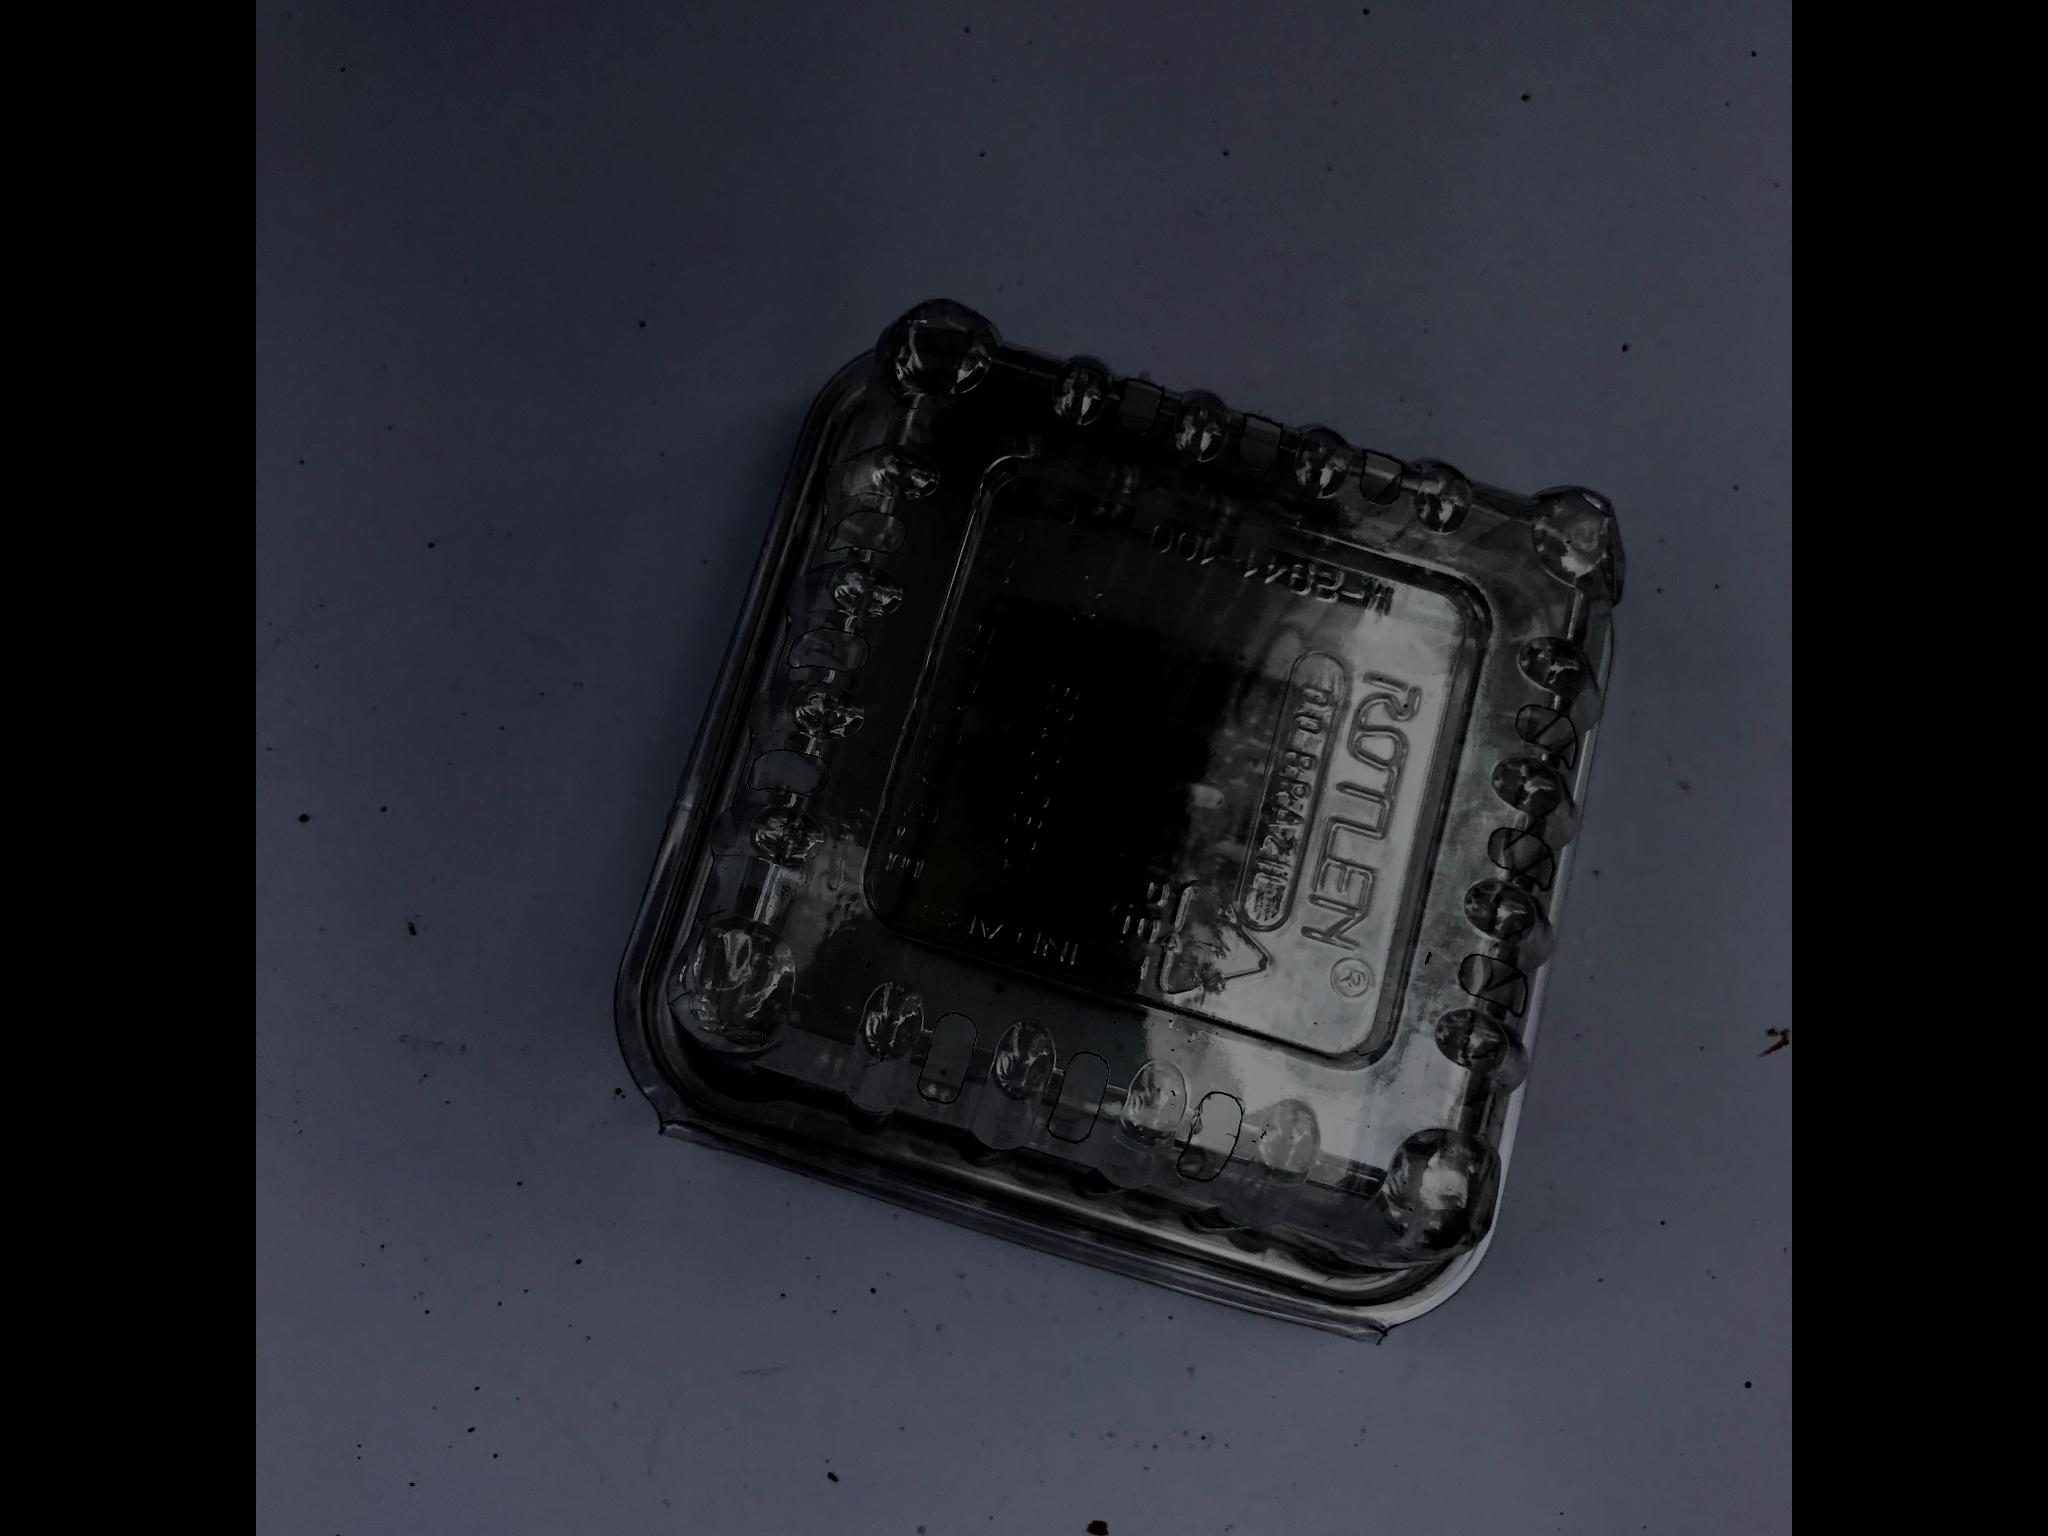Plastic: (555, 260, 1692, 1347)
